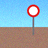sign: (27, 4, 40, 35)
